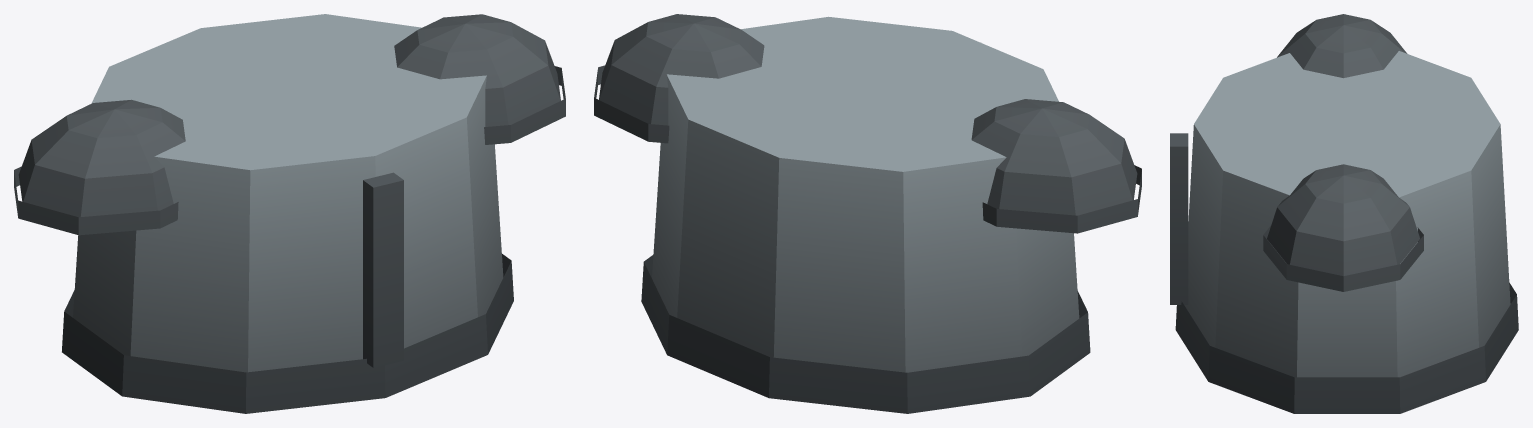
Rendered from berserker_guard_chest_t1.glb.
The picture shows the model from 3 angles, left to right: view 1: azimuth 30°, elevation 25°; view 2: azimuth 150°, elevation 25°; view 3: azimuth 270°, elevation 25°; orthographic projection. The views are drawn at different scales.
Parts seen in each view (by area): view 1: berserker_guard_chest_t1__chest; view 2: berserker_guard_chest_t1__chest; view 3: berserker_guard_chest_t1__chest.
Part boxes in pixels (bbox=[...]): berserker_guard_chest_t1__chest: bbox=[14, 14, 565, 413]; berserker_guard_chest_t1__chest: bbox=[594, 14, 1141, 413]; berserker_guard_chest_t1__chest: bbox=[1170, 14, 1518, 413].
Size of the model in its own units: 3.23 by 1.49 by 2.05.
1 material, 1 textured.
